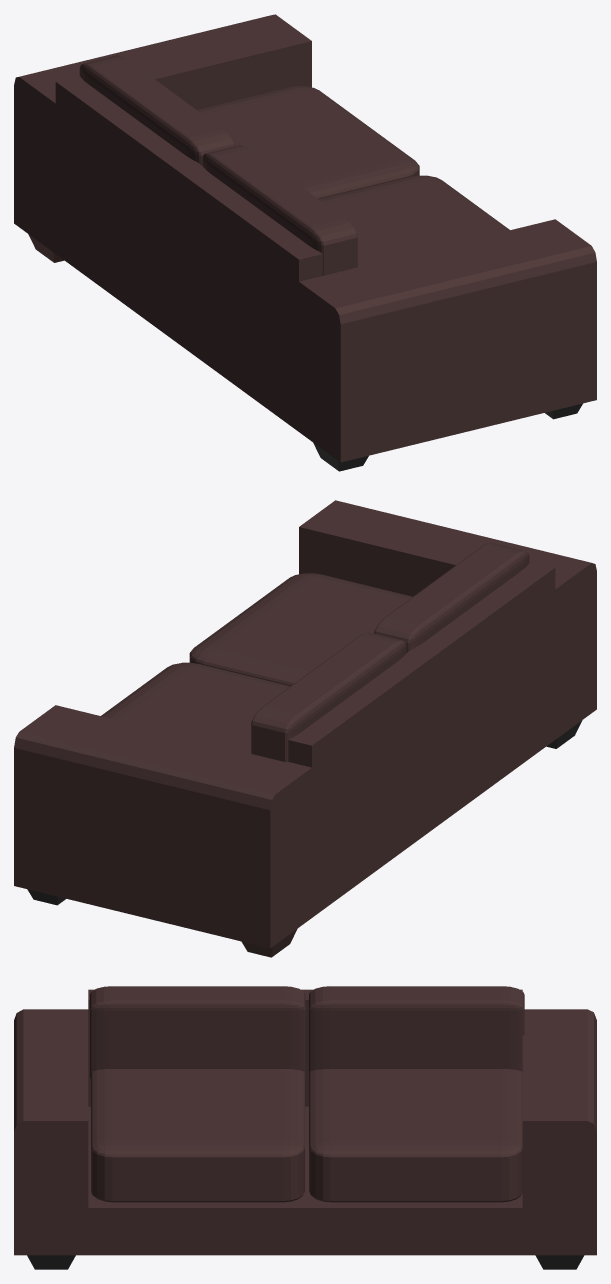
Rendered from sofa_modell.fbx.
The picture shows the model from 3 angles, top to bottom: view 1: azimuth 30°, elevation 25°; view 2: azimuth 150°, elevation 25°; view 3: azimuth 270°, elevation 25°; orthographic projection. The views are drawn at different scales.
Parts seen in each view (by area): view 1: MainPiecce, Roundcube.001, Roundcube, Roundcube.002, Roundcube.003; view 2: MainPiecce, Roundcube, Roundcube.001, Roundcube.003, Roundcube.002; view 3: MainPiecce, Roundcube, Roundcube.001, Roundcube.002, Roundcube.003, Ben.001, Ben.
Part boxes in pixels (x1,y1,x2,y2): MainPiecce: [14, 14, 596, 462]; Roundcube.001: [196, 86, 419, 198]; Roundcube: [319, 175, 509, 267]; Roundcube.002: [202, 145, 357, 275]; Roundcube.003: [79, 55, 234, 165]; MainPiecce: [14, 500, 596, 948]; Roundcube: [189, 573, 412, 686]; Roundcube.001: [101, 662, 290, 752]; Roundcube.003: [251, 632, 406, 761]; Roundcube.002: [374, 542, 529, 652]; MainPiecce: [14, 989, 596, 1255]; Roundcube: [91, 1069, 304, 1202]; Roundcube.001: [309, 1069, 522, 1202]; Roundcube.002: [90, 986, 305, 1078]; Roundcube.003: [309, 986, 524, 1072]; Ben.001: [535, 1255, 584, 1269]; Ben: [27, 1255, 75, 1269].
Size of the model in its own units: 200 by 156 by 441.
